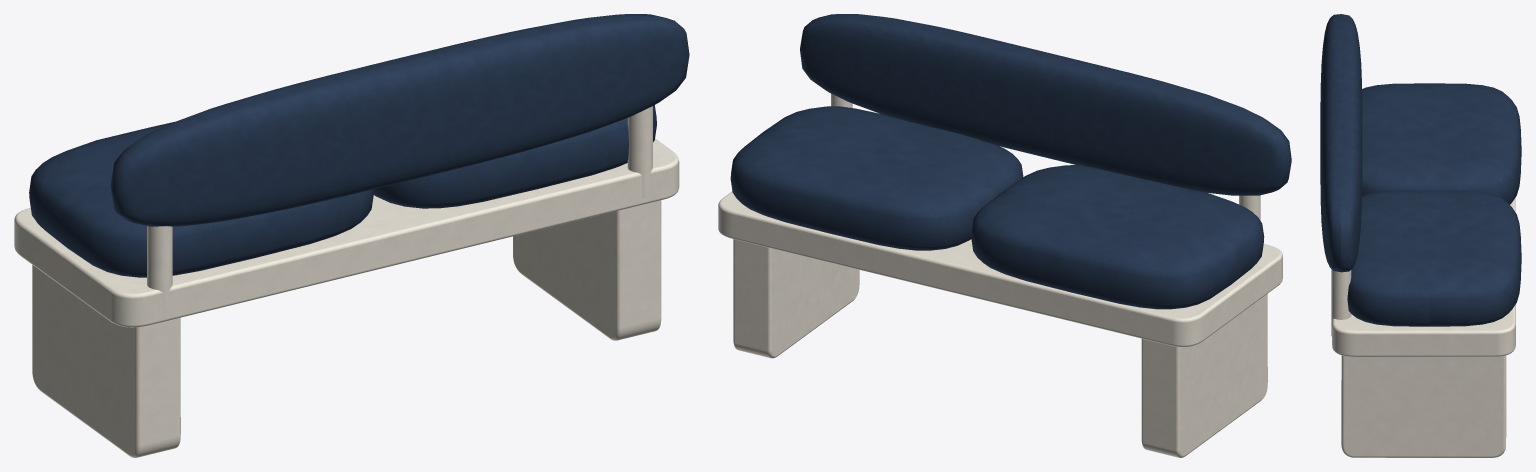
The model's file is arcade_bench.glb.
The picture shows the model from 3 angles, left to right: view 1: azimuth 30°, elevation 25°; view 2: azimuth 150°, elevation 25°; view 3: azimuth 270°, elevation 25°; orthographic projection. The views are drawn at different scales.
Visible parts, largest first — view 1: LowBack, SeatSupport, SeatCushion1, LegLeft, LegRight, SeatCushion2, BackSupportLeft, BackSupportRight; view 2: LowBack, SeatCushion1, SeatCushion2, SeatSupport, LegLeft, LegRight; view 3: SeatCushion2, SeatCushion1, LegRight, LowBack, SeatSupport, BackSupportRight.
Part boxes in pixels (<box>): LowBack: <box>110,14,689,226</box>; SeatSupport: <box>14,138,679,327</box>; SeatCushion1: <box>29,122,373,277</box>; LegLeft: <box>32,265,180,457</box>; LegRight: <box>513,200,661,340</box>; SeatCushion2: <box>373,105,656,208</box>; BackSupportLeft: <box>147,226,172,315</box>; BackSupportRight: <box>627,106,652,198</box>; LowBack: <box>800,14,1291,195</box>; SeatCushion1: <box>971,165,1264,309</box>; SeatCushion2: <box>730,106,1023,250</box>; SeatSupport: <box>718,191,1282,347</box>; LegLeft: <box>1141,294,1267,457</box>; LegRight: <box>733,239,859,358</box>; SeatCushion2: <box>1347,190,1521,326</box>; SeatCushion1: <box>1362,83,1521,204</box>; LegRight: <box>1341,355,1506,457</box>; LowBack: <box>1320,14,1362,272</box>; SeatSupport: <box>1332,198,1515,356</box>; BackSupportRight: <box>1331,269,1351,336</box>.
Bounding box in the file's own units: 1.34 × 0.75 × 0.525.
Materials: 4 (4 with a texture image).
